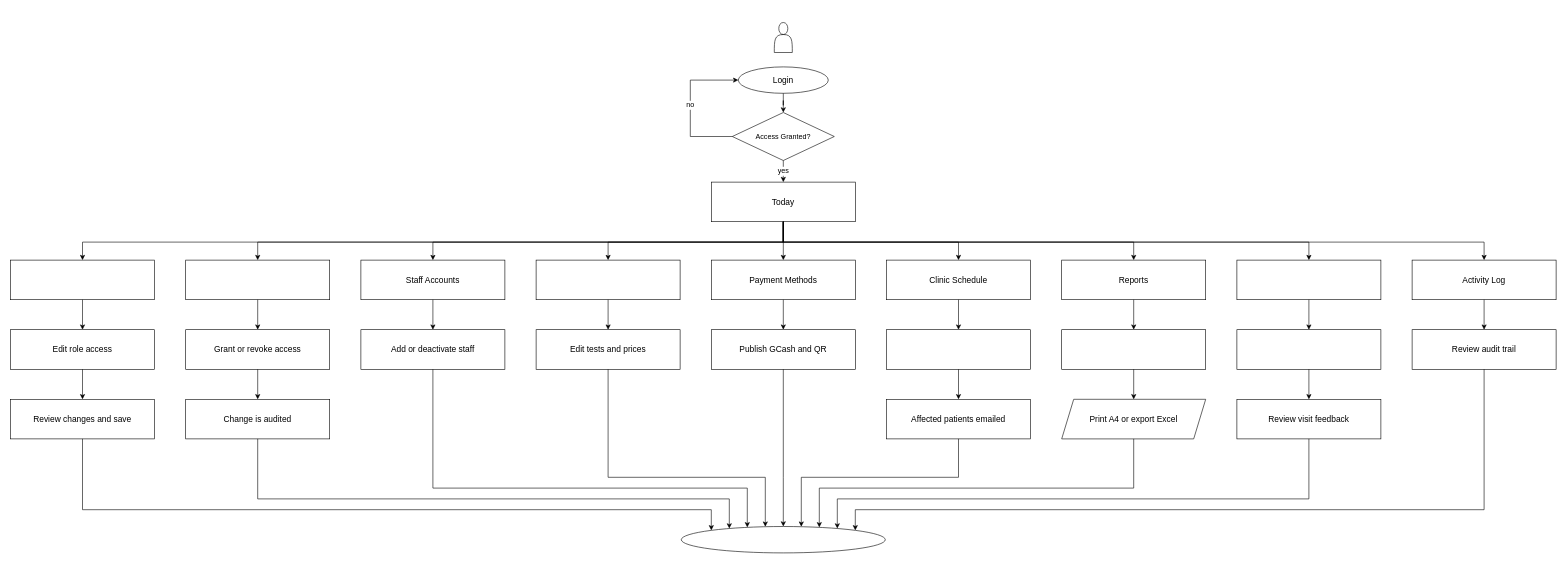
This 1567x563 diagram has some shape labels left out. The shapes that lost their labels are listed below. From the top down, each one's centre as x and y in pixels, then its label:
At (783,37): "Super Admin".
At (82,280): "Who Sees What".
At (257,280): "One Person".
At (608,280): "Services Catalog".
At (1308,280): "Patient Feedback".
At (958,349): "Set hours and closures".
At (1133,349): "Generate report".
At (1308,349): "Manage survey questions".
At (783,539): "End".
